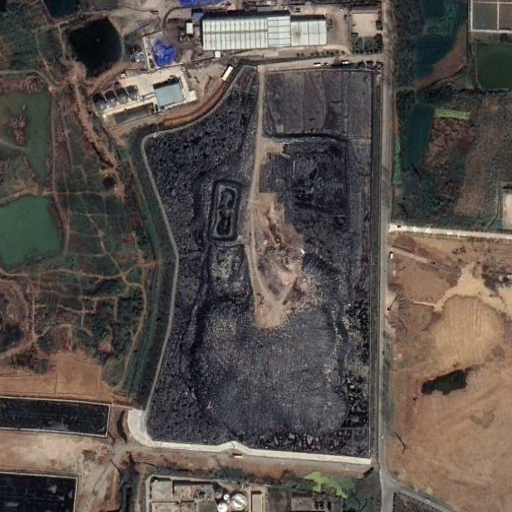lf: (142, 61, 377, 456)
